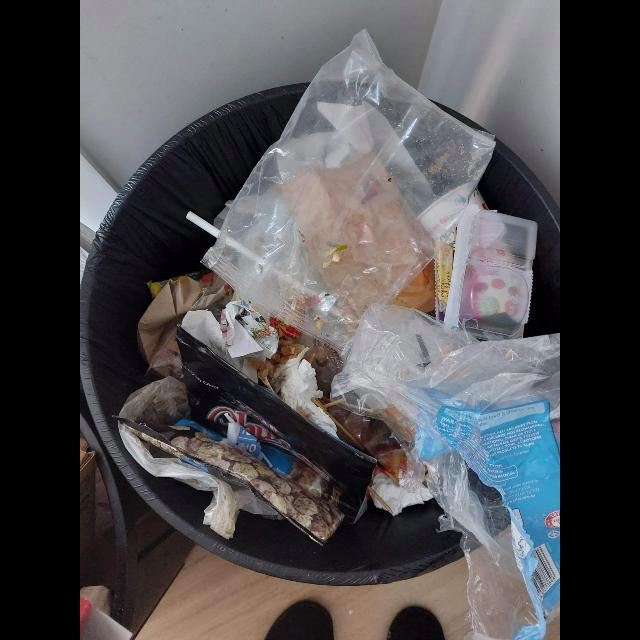food_wrapper: (118, 328, 378, 546)
paper: (137, 272, 234, 379), (268, 348, 338, 440), (220, 300, 279, 361), (181, 310, 234, 367), (369, 473, 434, 517), (395, 258, 435, 313)
plastic_bag: (201, 30, 495, 355), (117, 422, 285, 540)
